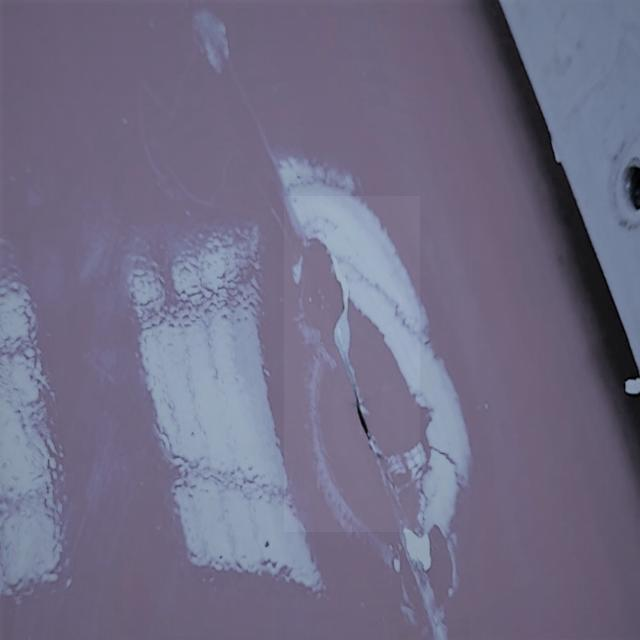crack: (285, 197, 421, 534)
